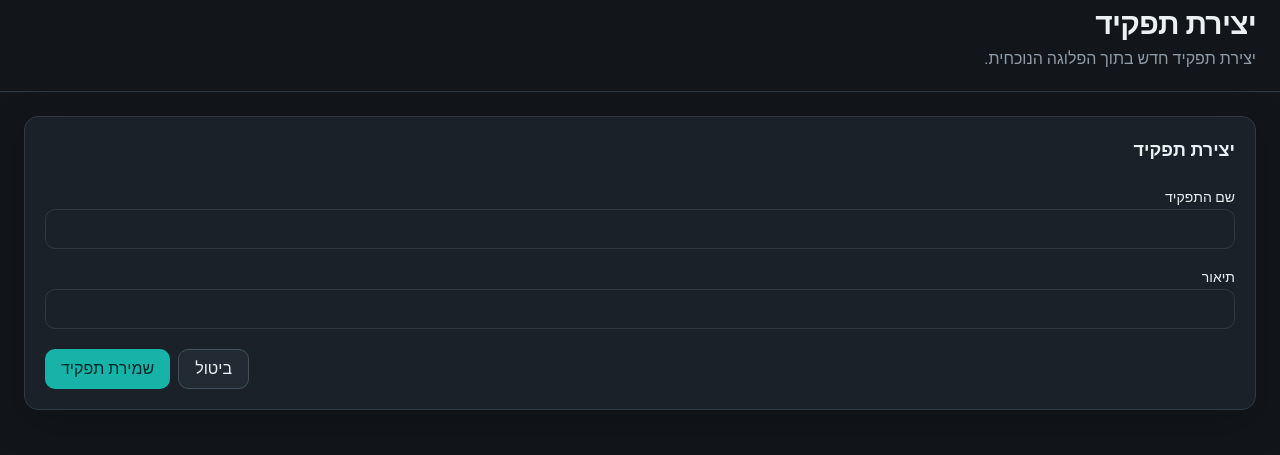
RoleFormPage › validates required fields before submit
The image size is (1280, 455).
Click the button "שמירת תפקיד".
click(108, 369)  # box [45,349,170,389]
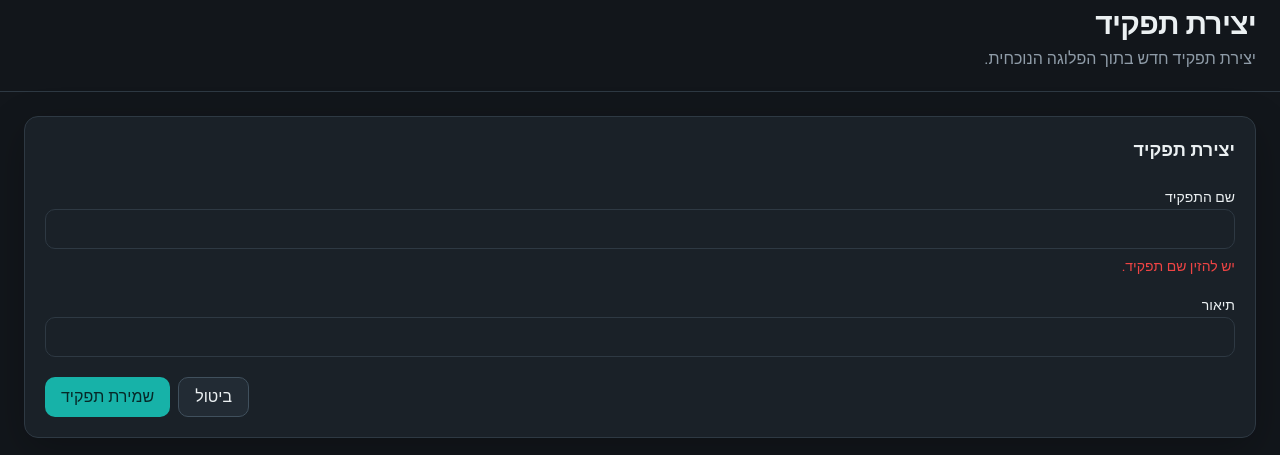
Check: the text "יש להזין שם תפקיד." is shown, box [1122,256,1235,277]
